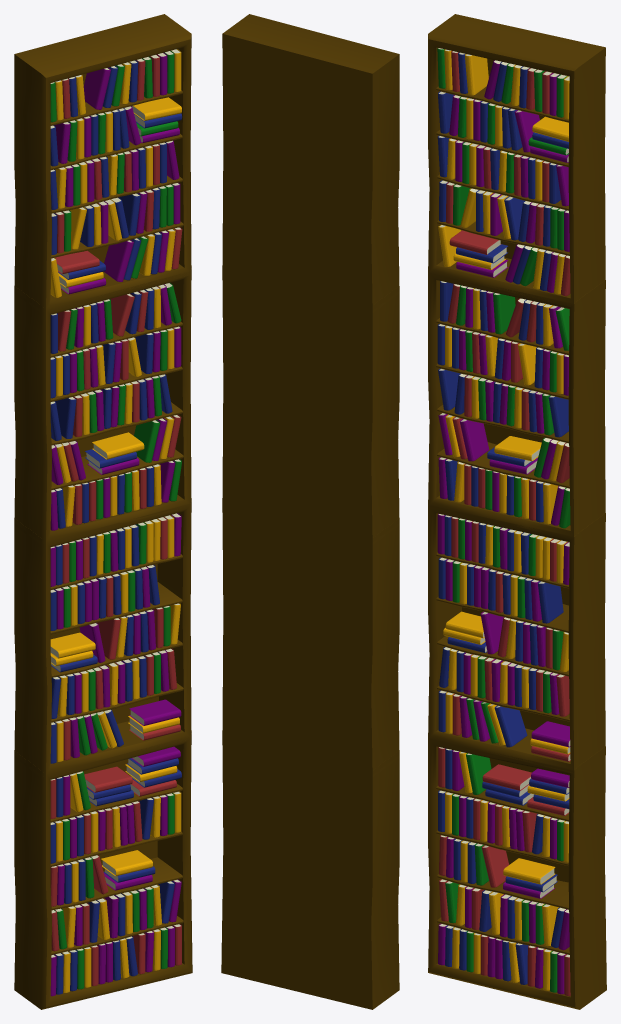
File: bookshelf_c_old.fbx
3 renders of one model, left to right at view 1: azimuth 30°, elevation 25°; view 2: azimuth 150°, elevation 25°; view 3: azimuth 330°, elevation 25°, orthographic.
Parts seen in each view (by area): view 1: books, shelf; view 2: shelf; view 3: books, shelf.
Boxes of the visible parts, bbox=[...] form: books: bbox=[50, 49, 182, 996]; shelf: bbox=[14, 14, 192, 1009]; shelf: bbox=[221, 14, 399, 1009]; books: bbox=[437, 48, 570, 996]; shelf: bbox=[428, 14, 606, 1009].
Bounding box in the file's own units: 94.85 × 563 × 31.41.
